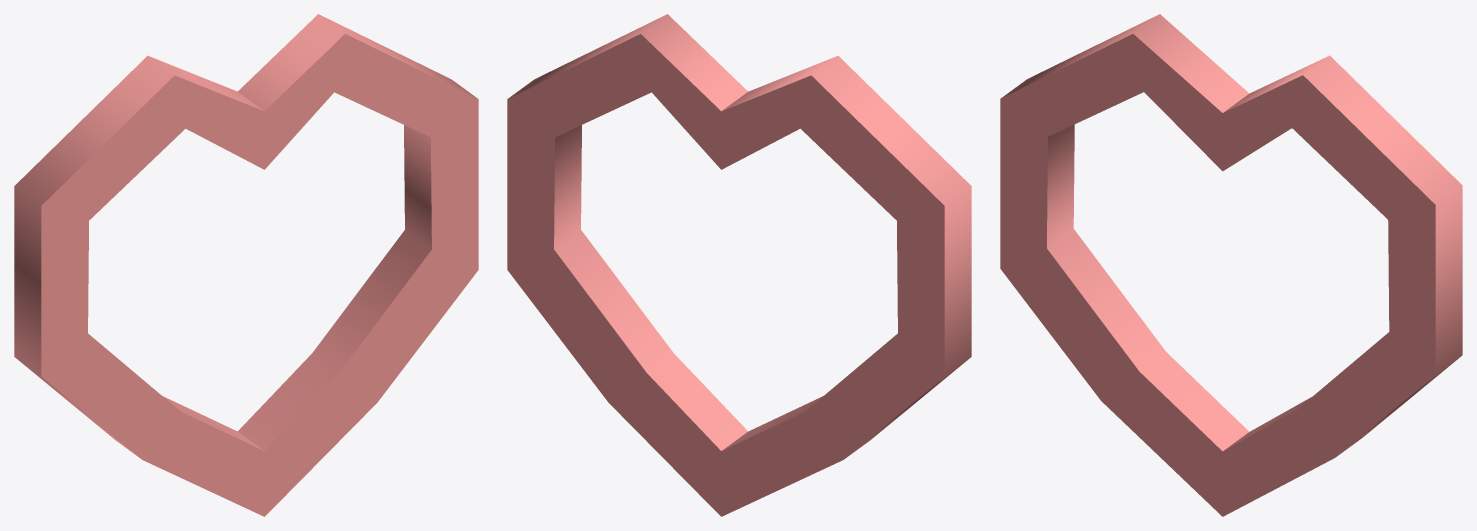
Rendered from Heart.fbx.
3 renders of one model, left to right at view 1: azimuth 30°, elevation 25°; view 2: azimuth 150°, elevation 25°; view 3: azimuth 330°, elevation 25°, orthographic.
Visible parts, largest first — view 1: Heart1; view 2: Heart1; view 3: Heart1.
Boxes of the visible parts, x1,y1,x2,y2 form: Heart1: [14, 14, 478, 516]; Heart1: [507, 14, 971, 516]; Heart1: [1000, 14, 1462, 516].
Bounding box in the file's own units: 0.6695 × 0.678 × 0.0715.
